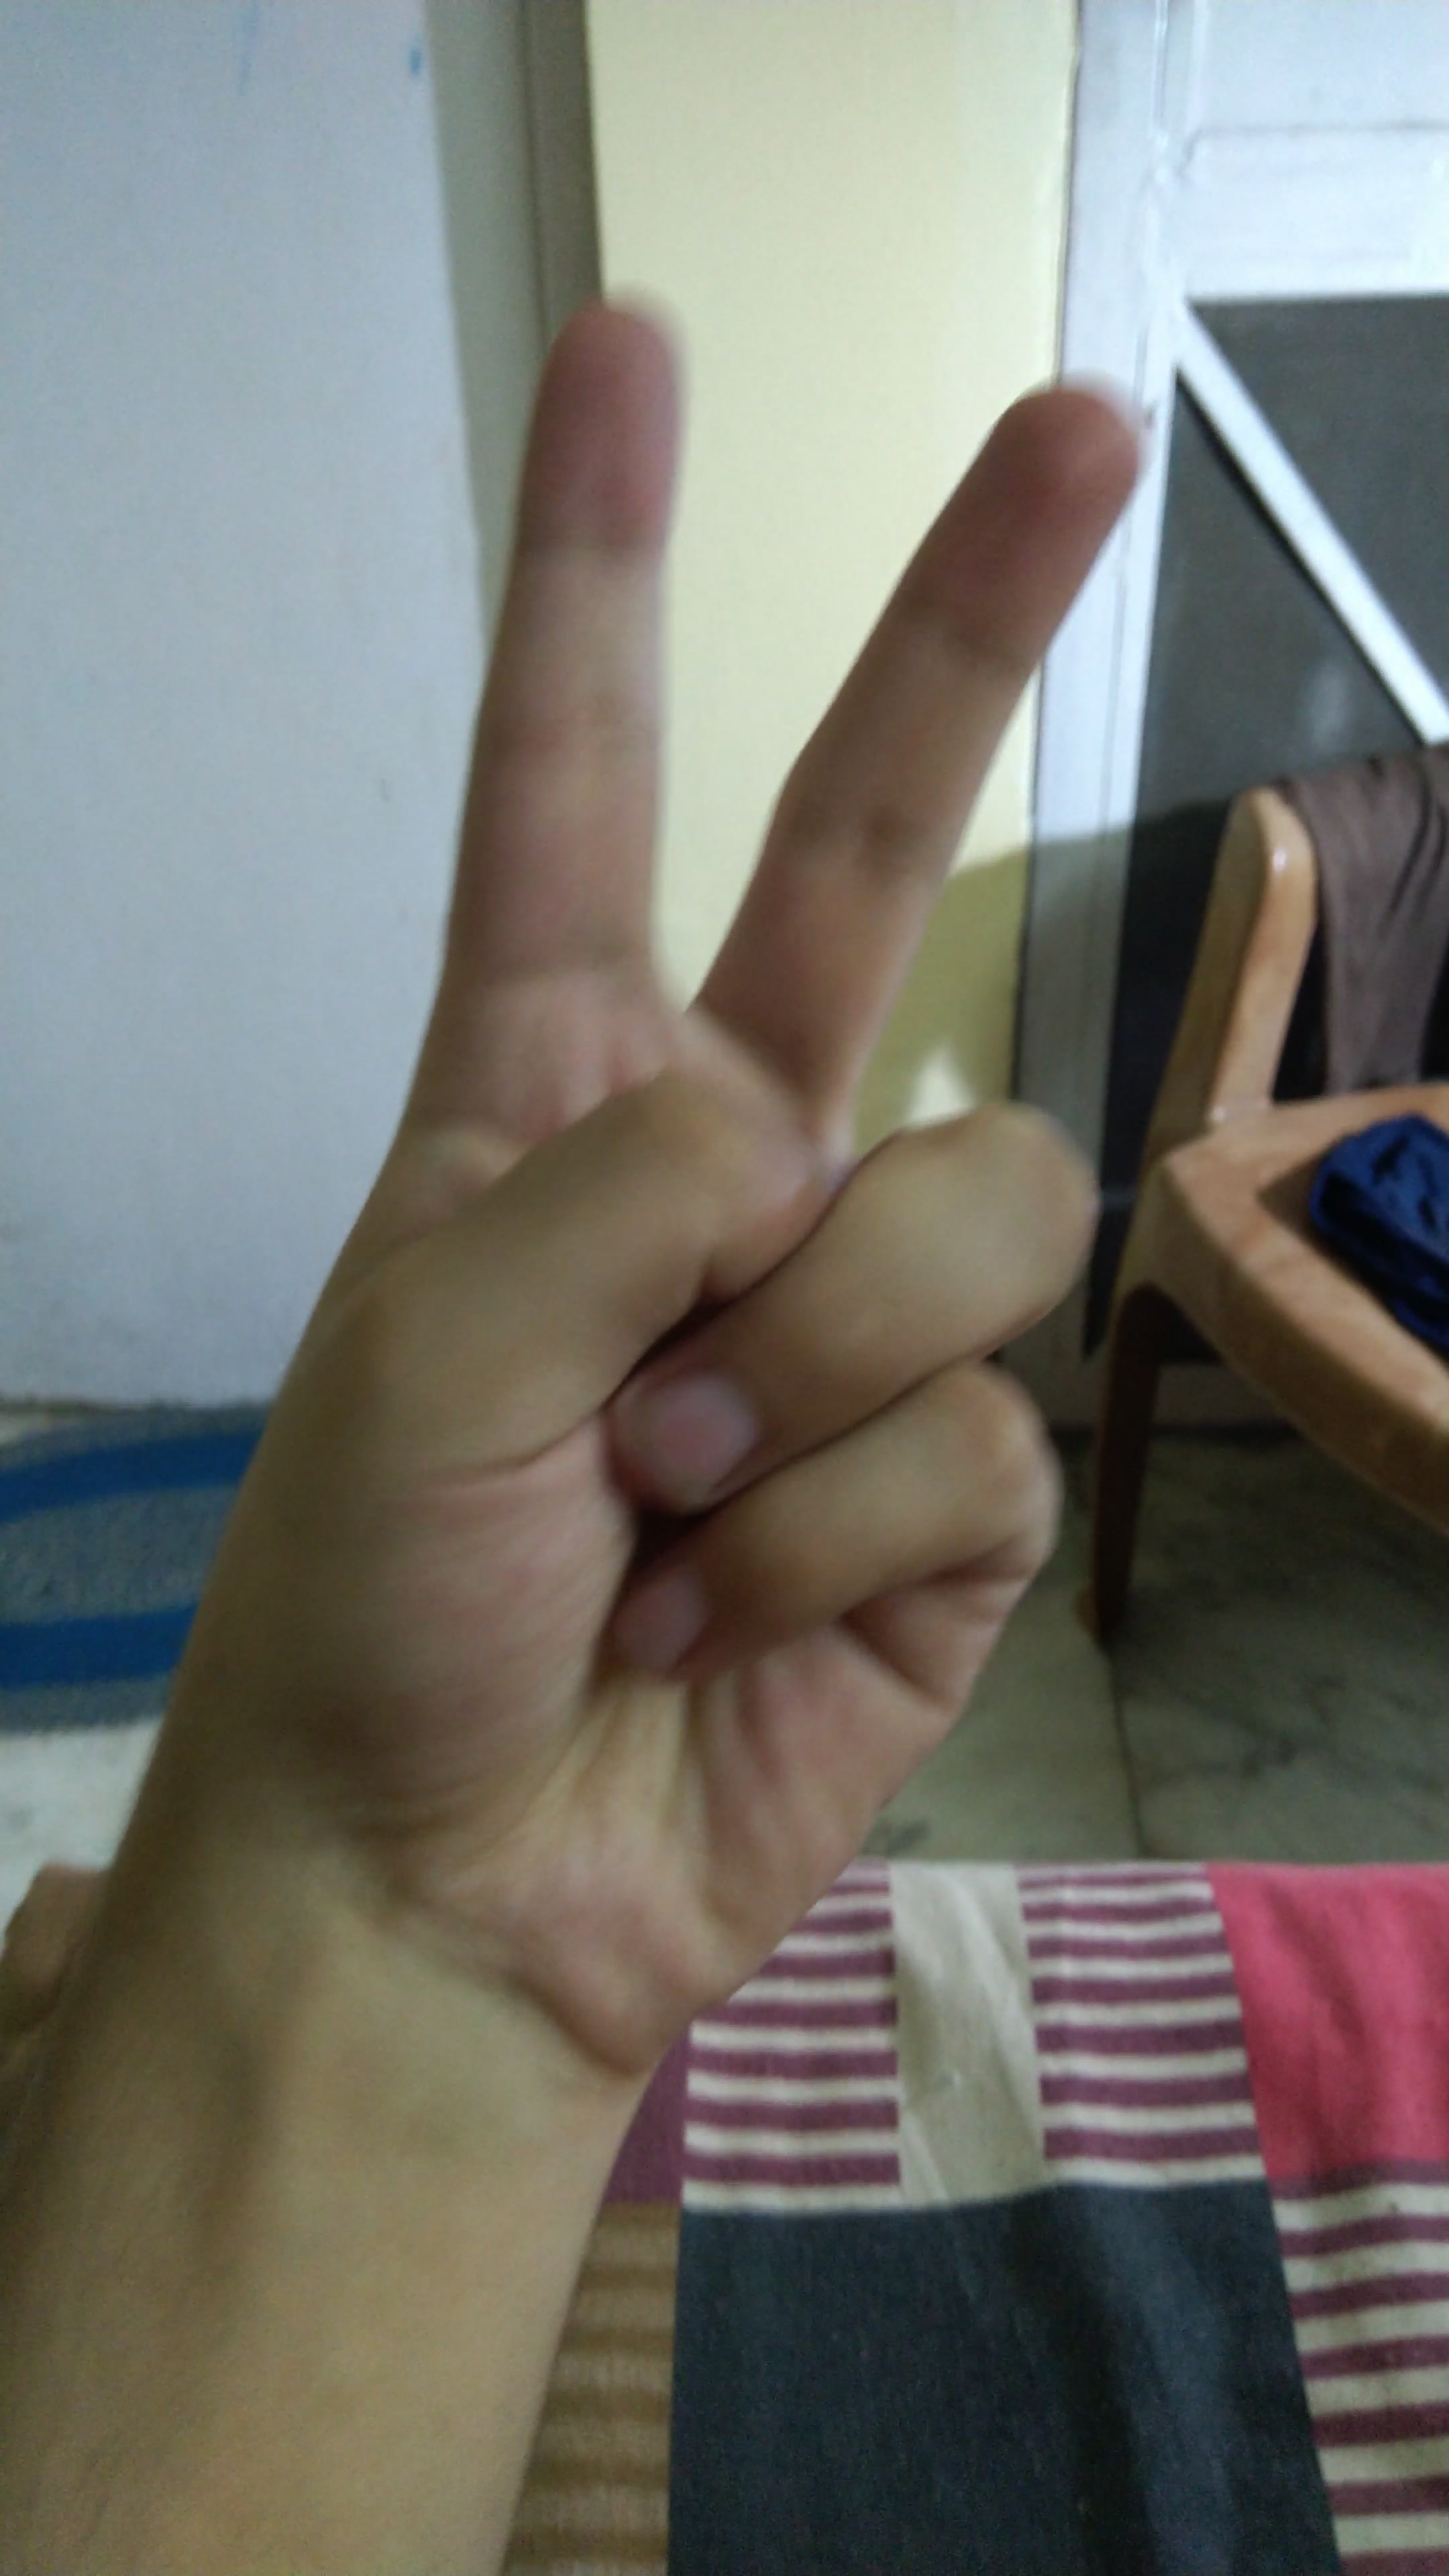hand: (124, 225, 1223, 2093)
